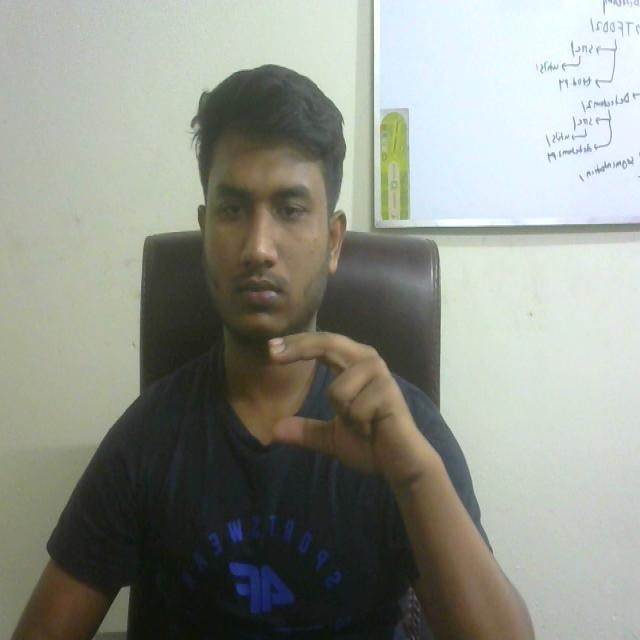D: (253, 290, 414, 502)
